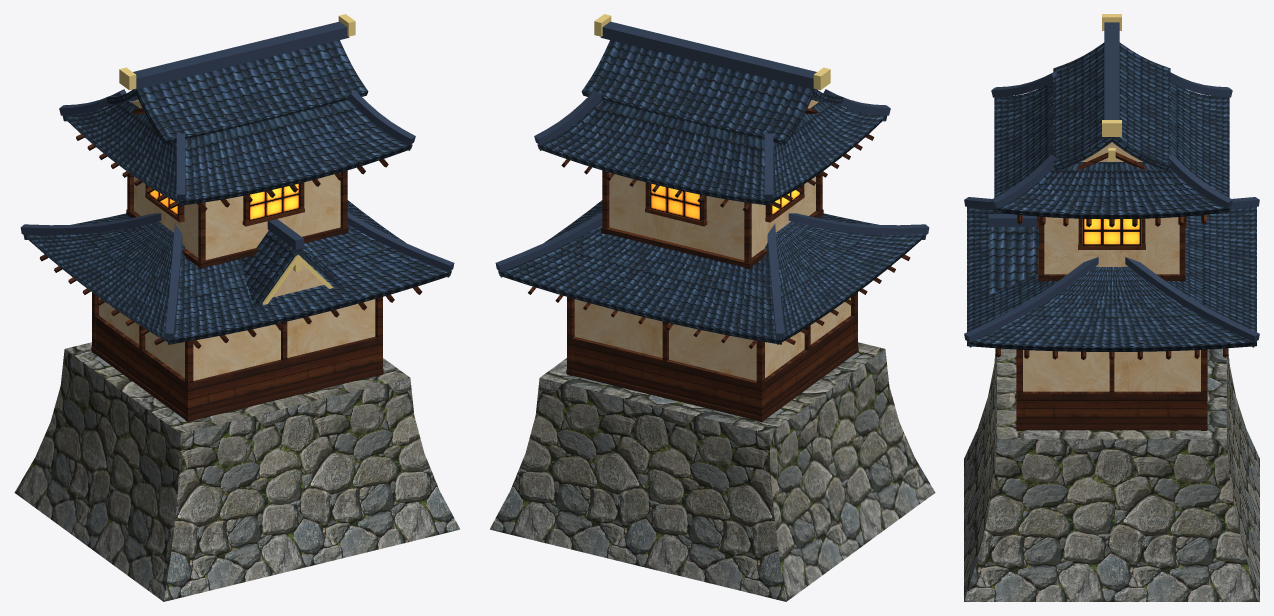
File: castle_yagura.glb
3 renders of one model, left to right at view 1: azimuth 30°, elevation 25°; view 2: azimuth 150°, elevation 25°; view 3: azimuth 270°, elevation 25°, orthographic.
Visible parts, largest first — view 1: yagura_castle_stone, yagura_kawara, yagura_charred, yagura_plaster, yagura_shoji_glow, yagura_gold_trim; view 2: yagura_castle_stone, yagura_kawara, yagura_charred, yagura_plaster, yagura_shoji_glow; view 3: yagura_kawara, yagura_castle_stone, yagura_plaster, yagura_charred, yagura_shoji_glow, yagura_gold_trim.
Boxes of the visible parts, x1,y1,x2,y2 form: yagura_castle_stone: [14, 342, 460, 601]; yagura_kawara: [20, 21, 454, 344]; yagura_charred: [39, 108, 422, 422]; yagura_plaster: [99, 100, 375, 380]; yagura_shoji_glow: [149, 183, 299, 220]; yagura_gold_trim: [119, 14, 355, 304]; yagura_castle_stone: [489, 342, 935, 601]; yagura_kawara: [495, 21, 929, 344]; yagura_charred: [528, 108, 910, 422]; yagura_plaster: [574, 100, 850, 380]; yagura_shoji_glow: [650, 183, 800, 220]; yagura_kawara: [964, 22, 1259, 351]; yagura_castle_stone: [964, 348, 1259, 601]; yagura_plaster: [1023, 142, 1200, 391]; yagura_charred: [996, 152, 1227, 430]; yagura_shoji_glow: [1082, 219, 1141, 245]; yagura_gold_trim: [1102, 14, 1121, 161].
Bounding box in the file's own units: 6.2 × 9.3 × 5.4.
6 materials, 5 textured.
